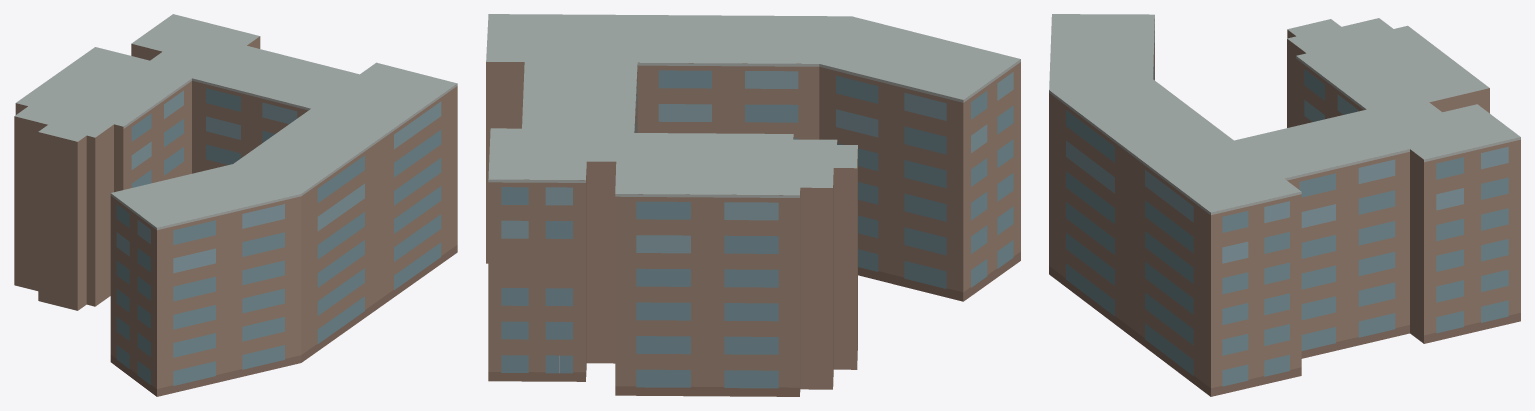
The model's file is survey-upis-33009019.glb.
3 views of the same model, side by side, from view 1: azimuth 30°, elevation 25°; view 2: azimuth 150°, elevation 25°; view 3: azimuth 270°, elevation 25° (orthographic). The views are drawn at different scales.
Parts seen in each view (by area): view 1: survey-upis-33009019.tmp; view 2: survey-upis-33009019.tmp; view 3: survey-upis-33009019.tmp.
Boxes of the visible parts, x1,y1,x2,y2 form: survey-upis-33009019.tmp: (14, 14, 457, 396); survey-upis-33009019.tmp: (486, 14, 1020, 396); survey-upis-33009019.tmp: (1049, 14, 1520, 396).
Bounding box in the file's own units: 40 × 17.3 × 40.14.
